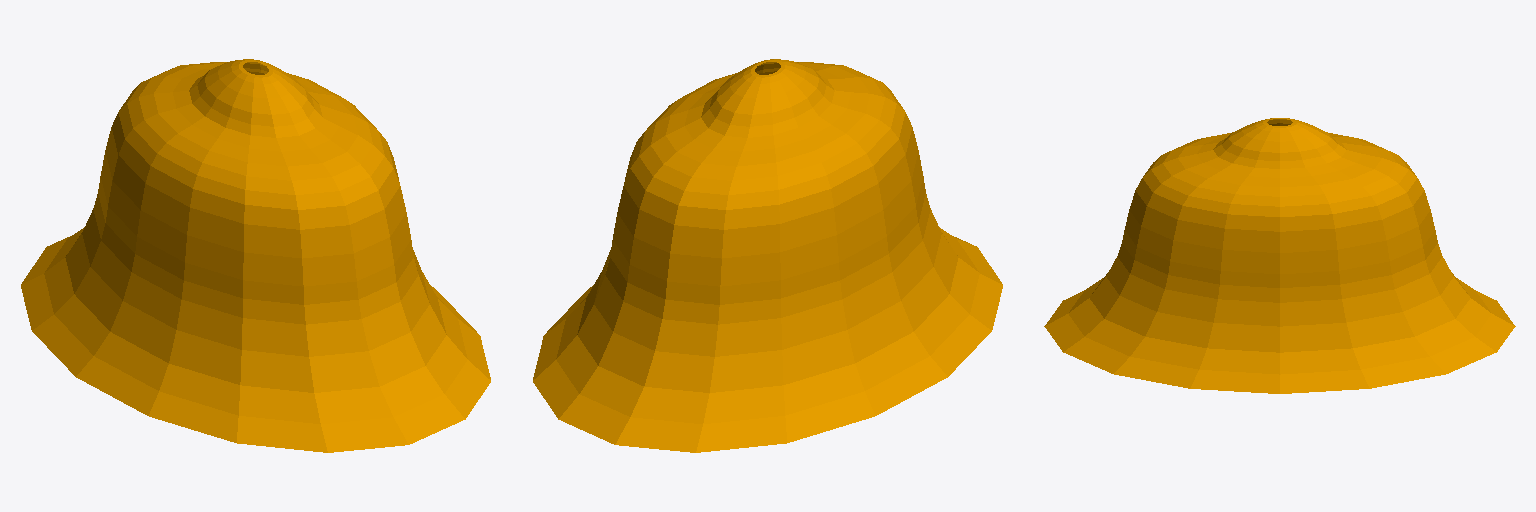
URDF robot description (mesh_object):
<robot name="mesh_object">
            <link name="base">
                <visual>
                    <geometry>
                        <mesh filename="bell_3_v000.obj" scale="1 1 1" />
                    </geometry>
                </visual>
                <collision>
                    <geometry>
                        <mesh filename="bell_3_v000.obj" scale="1 1 1" />
                    </geometry>
                </collision>
                <inertial>
                    <origin xyz="0.000000 0.000000 0.050000" rpy="0 0 0" />
                    <mass value="0.500000" />
                    <inertia ixx="0.01" iyy="0.01" izz="0.01" ixy="0" ixz="0" iyz="0" />
                </inertial>
            </link>
            </robot>

--- Facts derived from the render (not from the file) ---
3 views of the same robot in one strip: view 1: azimuth 30°, elevation 25°; view 2: azimuth 150°, elevation 25°; view 3: azimuth 270°, elevation 25° (orthographic).
Model mesh_object with 1 links and 0 joints (none), rooted at base, posed all joints at 0.
Visible links, largest first — view 1: base; view 2: base; view 3: base.
Link boxes in pixels (<box>): base: <box>21,59,490,452</box>; base: <box>533,59,1002,452</box>; base: <box>1044,118,1515,393</box>.
Size in the robot's own frame: 0.0706 by 0.1037 by 0.055 metres.
Meshes: 1 distinct files referenced, 1 mesh visuals loaded (1 OBJ).
